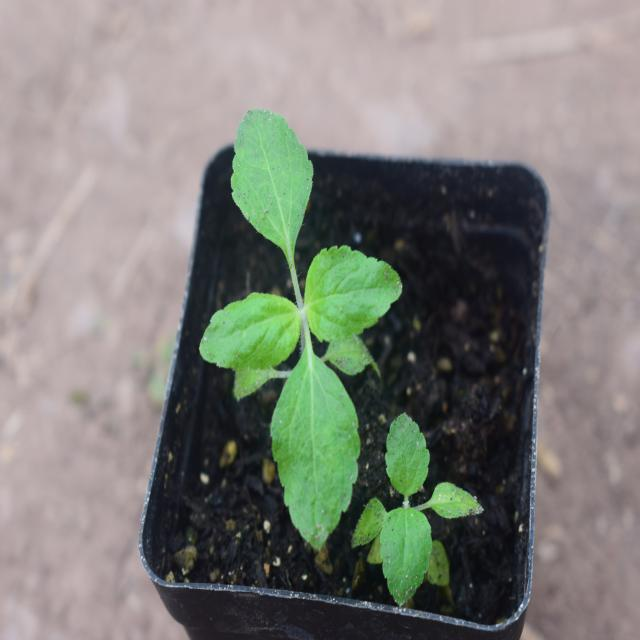billygoat_weed: (213, 125, 381, 537), (336, 375, 462, 598)
